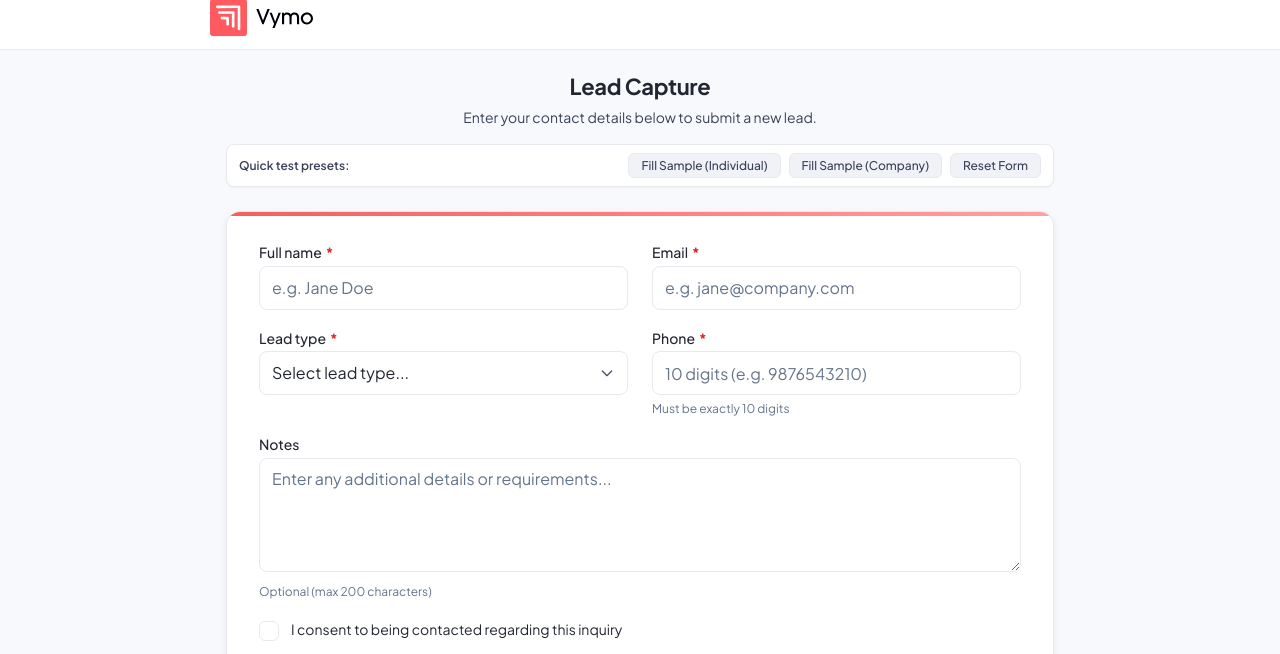
Test: LeadCapturePage › validates Company Name is required when visible (Company selected)
This screenshot has width=1280, height=654.
Select "Company" in the dropdown labelled "Lead type*": coordinates (444, 373) [259, 351, 628, 395]
(page scrolled)
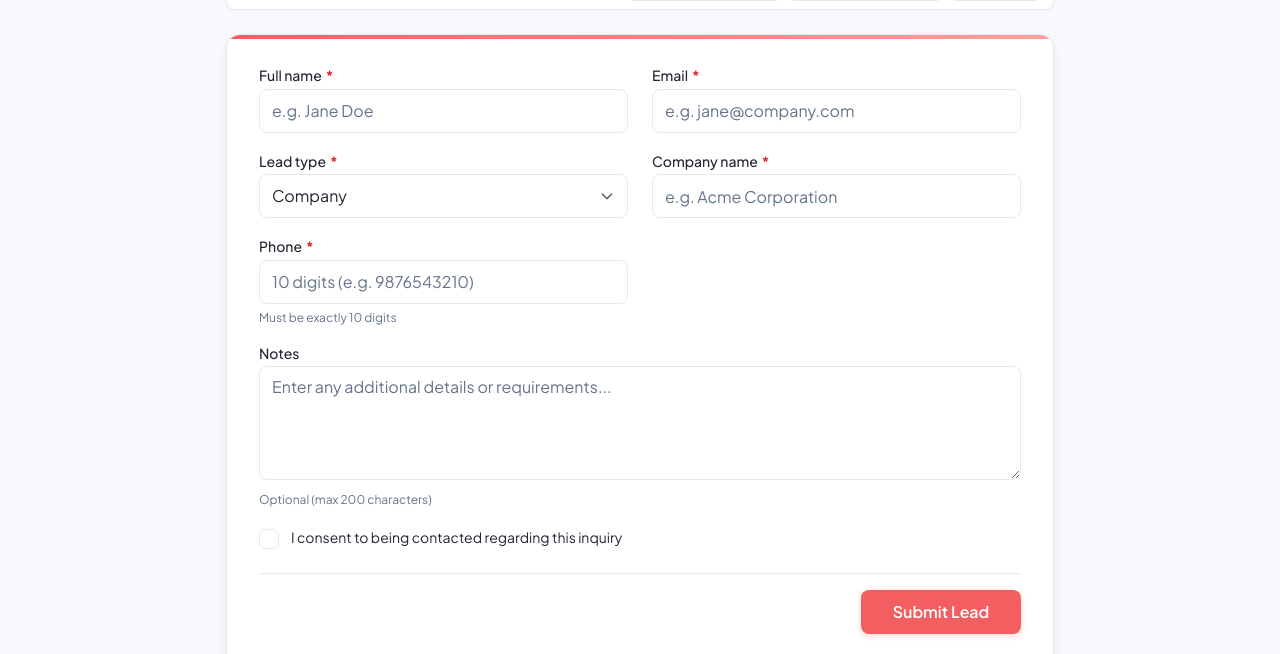
Click the button "Submit Lead": coordinates (941, 612) [861, 590, 1021, 634]
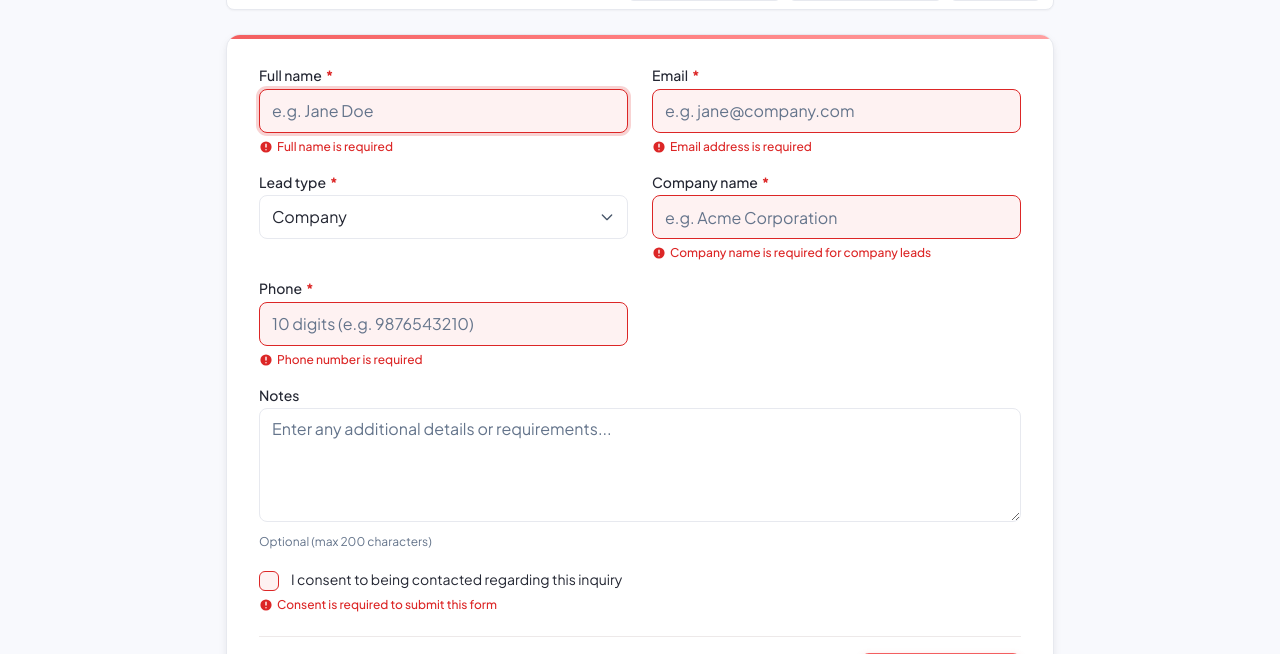
Check: the text "Company name is required for company leads" is shown, box [670, 245, 931, 260]
